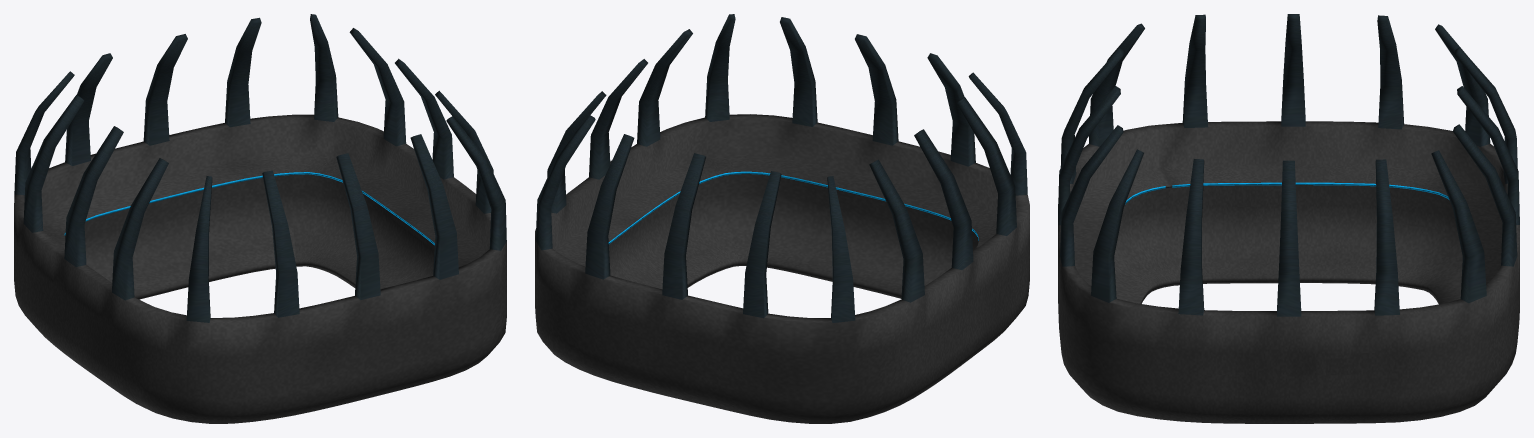
File: Arena.fbx
3 renders of one model, left to right at view 1: azimuth 30°, elevation 25°; view 2: azimuth 150°, elevation 25°; view 3: azimuth 270°, elevation 25°, orthographic. The views are drawn at different scales.
Parts seen in each view (by area): view 1: Cube; view 2: Cube; view 3: Cube.
Part boxes in pixels (bbox=[...]): Cube: bbox=[14, 14, 506, 423]; Cube: bbox=[535, 14, 1029, 423]; Cube: bbox=[1058, 14, 1519, 423].
Bounding box in the file's own units: 51.98 × 32.37 × 51.97.
